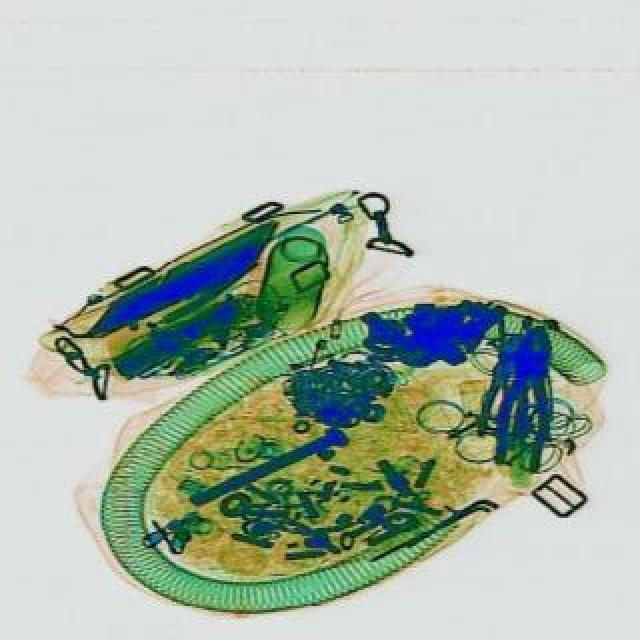wrench: (488, 322, 558, 474), (470, 330, 538, 442)
